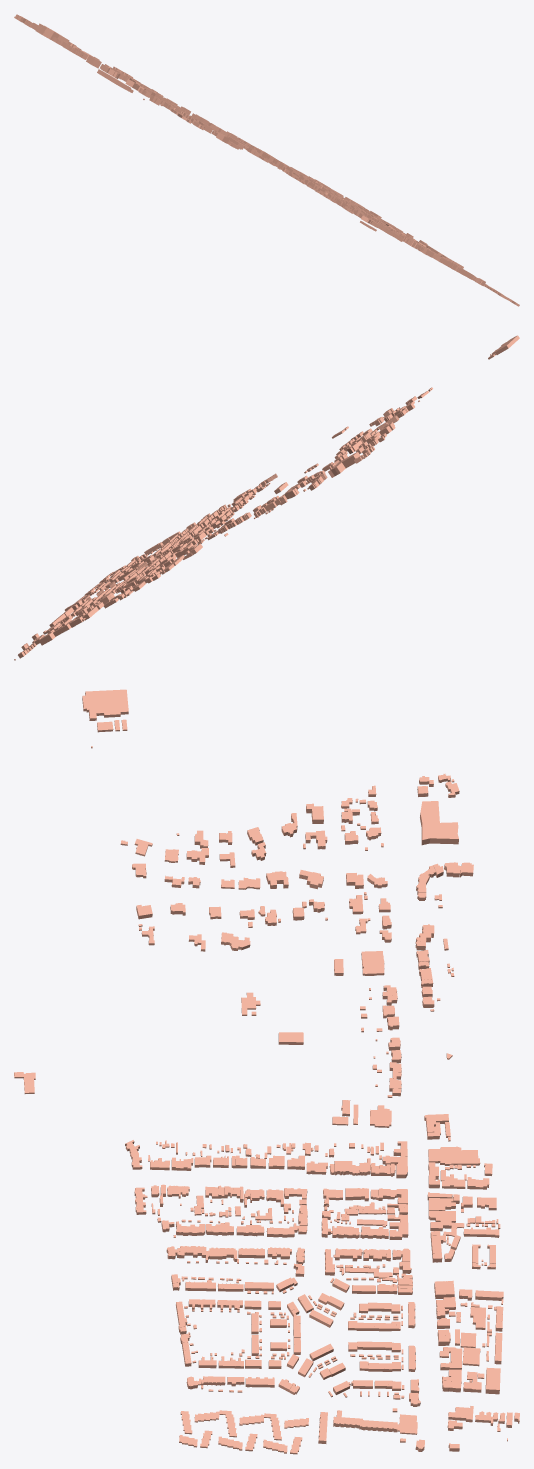
3 renders of one model, top to bottom at view 1: azimuth 30°, elevation 25°; view 2: azimuth 150°, elevation 25°; view 3: azimuth 270°, elevation 25°, orthographic. The views are drawn at different scales.
Bounding box in the file's own units: 890 × 704 × 667.
